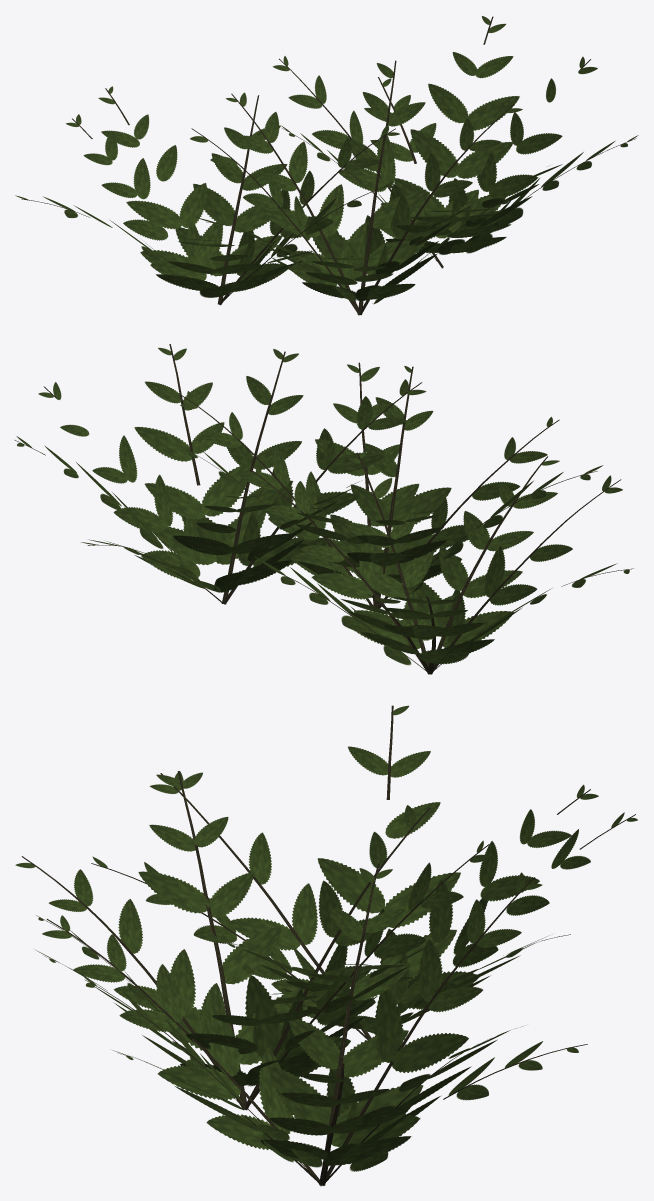
The model's file is rock_fern_v01_LOD1.glb.
The picture shows the model from 3 angles, top to bottom: view 1: azimuth 30°, elevation 25°; view 2: azimuth 150°, elevation 25°; view 3: azimuth 270°, elevation 25°; orthographic projection. The views are drawn at different scales.
Visible parts, largest first — view 1: rock_fern_v01_LOD1; view 2: rock_fern_v01_LOD1; view 3: rock_fern_v01_LOD1.
Part boxes in pixels (left/top/right/bottom): rock_fern_v01_LOD1: left=15, top=16, right=638, bottom=315; rock_fern_v01_LOD1: left=14, top=344, right=633, bottom=674; rock_fern_v01_LOD1: left=15, top=705, right=637, bottom=1186.
Bounding box in the file's own units: 0.352 × 0.1066 × 0.2441.
Materials: 2 (2 with a texture image).
